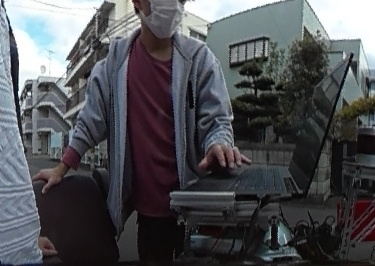person: (76, 0, 238, 254)
